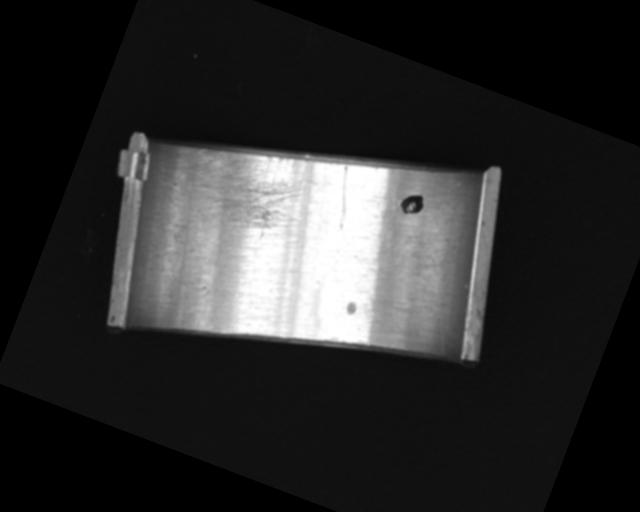blot: (396, 188, 427, 218)
bruise: (344, 299, 359, 317)
nick: (397, 255, 474, 356), (322, 165, 365, 231)
scratch: (178, 121, 316, 247)
